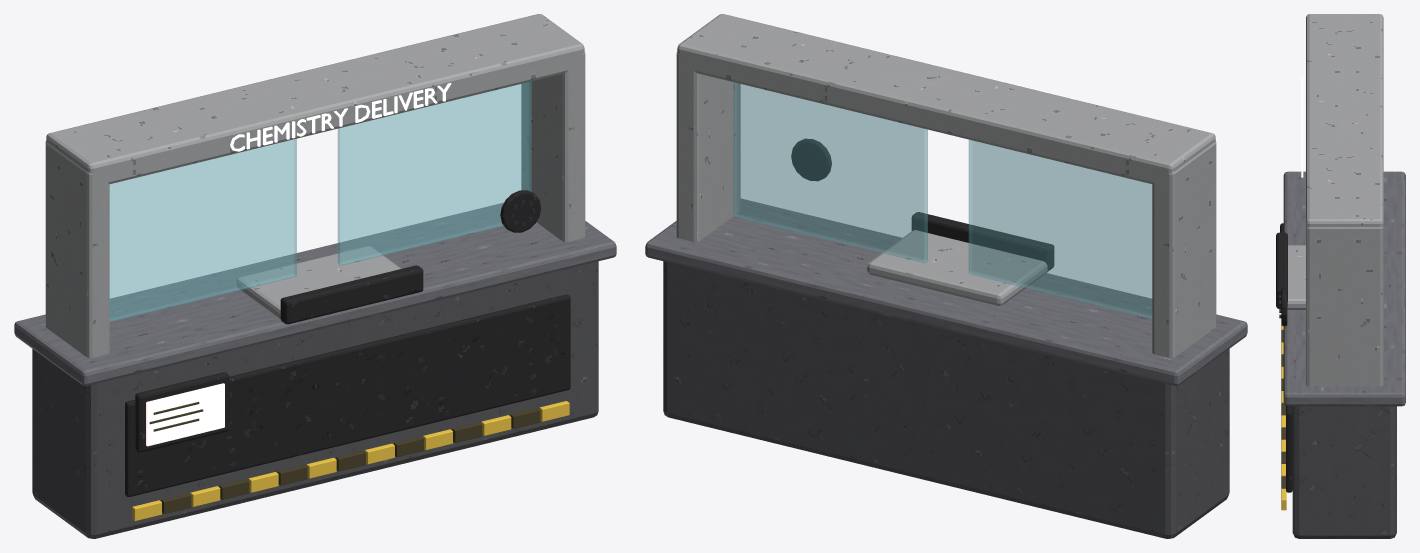
Rendered from machine_delivery_window.glb.
3 renders of one model, left to right at view 1: azimuth 30°, elevation 25°; view 2: azimuth 150°, elevation 25°; view 3: azimuth 270°, elevation 25°, orthographic. The views are drawn at different scales.
Parts seen in each view (by area): view 1: MCH_DeliveryWindow__Counter_Base, MCH_DeliveryWindow__Front_Inset, MCH_DeliveryWindow__Frame_Top, MCH_DeliveryWindow__Counter_Top, MCH_DeliveryWindow__Window_Right, MCH_DeliveryWindow__Window_Left, MCH_DeliveryWindow__Frame_Left, MCH_DeliveryWindow__Frame_Right, MCH_DeliveryWindow__Transfer_Tray, MCH_DeliveryWindow__Transfer_Lip, MCH_DeliveryWindow__Queue_Screen_Glow, MCH_DeliveryWindow__Queue_Screen_Bezel (+2 smaller); view 2: MCH_DeliveryWindow__Counter_Base, MCH_DeliveryWindow__Counter_Top, MCH_DeliveryWindow__Frame_Top, MCH_DeliveryWindow__Window_Right, MCH_DeliveryWindow__Window_Left, MCH_DeliveryWindow__Frame_Left, MCH_DeliveryWindow__Frame_Right, MCH_DeliveryWindow__Transfer_Tray, MCH_DeliveryWindow__Transfer_Lip, MCH_DeliveryWindow__Intercom; view 3: MCH_DeliveryWindow__Frame_Top, MCH_DeliveryWindow__Counter_Base, MCH_DeliveryWindow__Frame_Right, MCH_DeliveryWindow__Counter_Top, MCH_DeliveryWindow__Transfer_Tray, MCH_DeliveryWindow__Transfer_Lip, MCH_DeliveryWindow__Front_Inset, MCH_DeliveryWindow__Header_Text, MCH_DeliveryWindow__Intercom.
Part boxes in pixels (box(x1,y1,x2,y2)): MCH_DeliveryWindow__Counter_Base: box(32, 261, 598, 538); MCH_DeliveryWindow__Front_Inset: box(125, 294, 570, 496); MCH_DeliveryWindow__Frame_Top: box(46, 14, 584, 185); MCH_DeliveryWindow__Counter_Top: box(14, 202, 616, 385); MCH_DeliveryWindow__Window_Right: box(337, 81, 531, 265); MCH_DeliveryWindow__Window_Left: box(109, 138, 296, 321); MCH_DeliveryWindow__Frame_Left: box(45, 140, 109, 357); MCH_DeliveryWindow__Frame_Right: box(521, 52, 585, 241); MCH_DeliveryWindow__Transfer_Tray: box(236, 246, 400, 322); MCH_DeliveryWindow__Transfer_Lip: box(280, 265, 423, 324); MCH_DeliveryWindow__Queue_Screen_Glow: box(146, 383, 224, 446); MCH_DeliveryWindow__Queue_Screen_Bezel: box(135, 372, 229, 452); MCH_DeliveryWindow__Counter_Base: box(663, 261, 1229, 538); MCH_DeliveryWindow__Counter_Top: box(645, 198, 1247, 385); MCH_DeliveryWindow__Frame_Top: box(677, 14, 1215, 185); MCH_DeliveryWindow__Window_Right: box(733, 82, 927, 263); MCH_DeliveryWindow__Window_Left: box(968, 139, 1152, 318); MCH_DeliveryWindow__Frame_Left: box(1152, 140, 1216, 357); MCH_DeliveryWindow__Frame_Right: box(676, 52, 740, 241); MCH_DeliveryWindow__Transfer_Tray: box(867, 230, 1048, 305); MCH_DeliveryWindow__Transfer_Lip: box(911, 212, 1054, 270); MCH_DeliveryWindow__Intercom: box(791, 138, 831, 181); MCH_DeliveryWindow__Frame_Top: box(1306, 14, 1383, 226); MCH_DeliveryWindow__Counter_Base: box(1292, 406, 1396, 538); MCH_DeliveryWindow__Frame_Right: box(1306, 226, 1383, 386); MCH_DeliveryWindow__Counter_Top: box(1283, 171, 1405, 406); MCH_DeliveryWindow__Transfer_Tray: box(1287, 245, 1305, 309); MCH_DeliveryWindow__Transfer_Lip: box(1276, 232, 1287, 308); MCH_DeliveryWindow__Front_Inset: box(1286, 406, 1292, 492); MCH_DeliveryWindow__Header_Text: box(1301, 76, 1303, 177); MCH_DeliveryWindow__Intercom: box(1281, 287, 1287, 326).
Bounding box in the file's own units: 3.55 × 2.35 × 0.871.
Materials: 10 (4 with a texture image).
